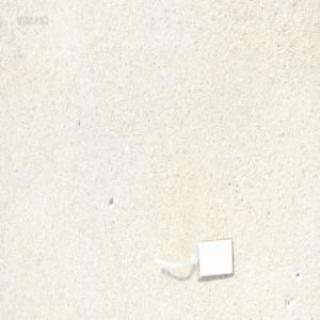LuggageTagtrack_idkeyframe: (150, 235, 232, 280)
